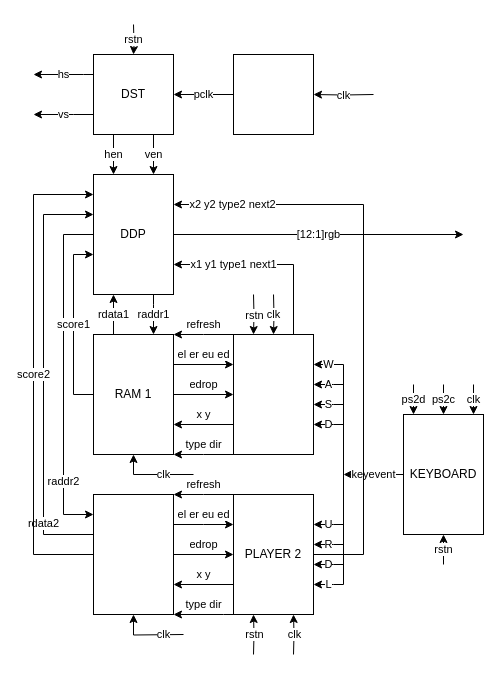
Image size: 501x680. Some labels were removed from this diagram. Here are the shapes that lost their labels. From the top down, the centre of each, then its label:
At point 273,94: "CLKWIZ".
At point 273,394: "PLAYER 1".
At point 133,554: "RAM 2".
